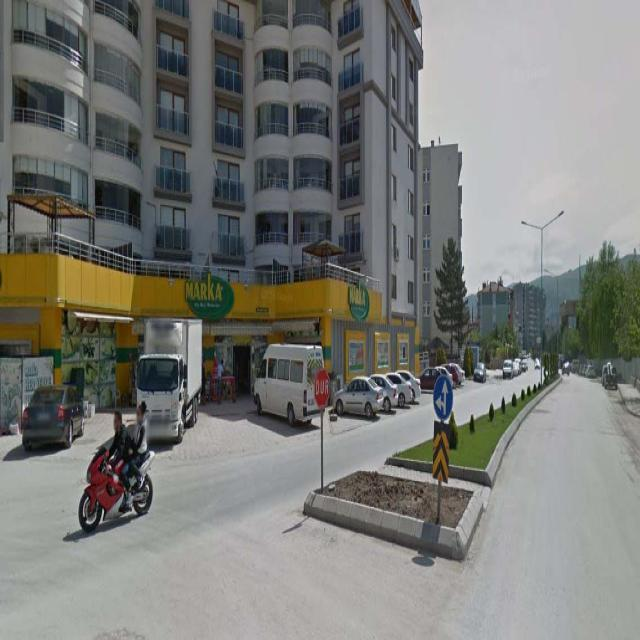dur: (314, 368, 331, 408)
ilerisol: (432, 373, 452, 424)
